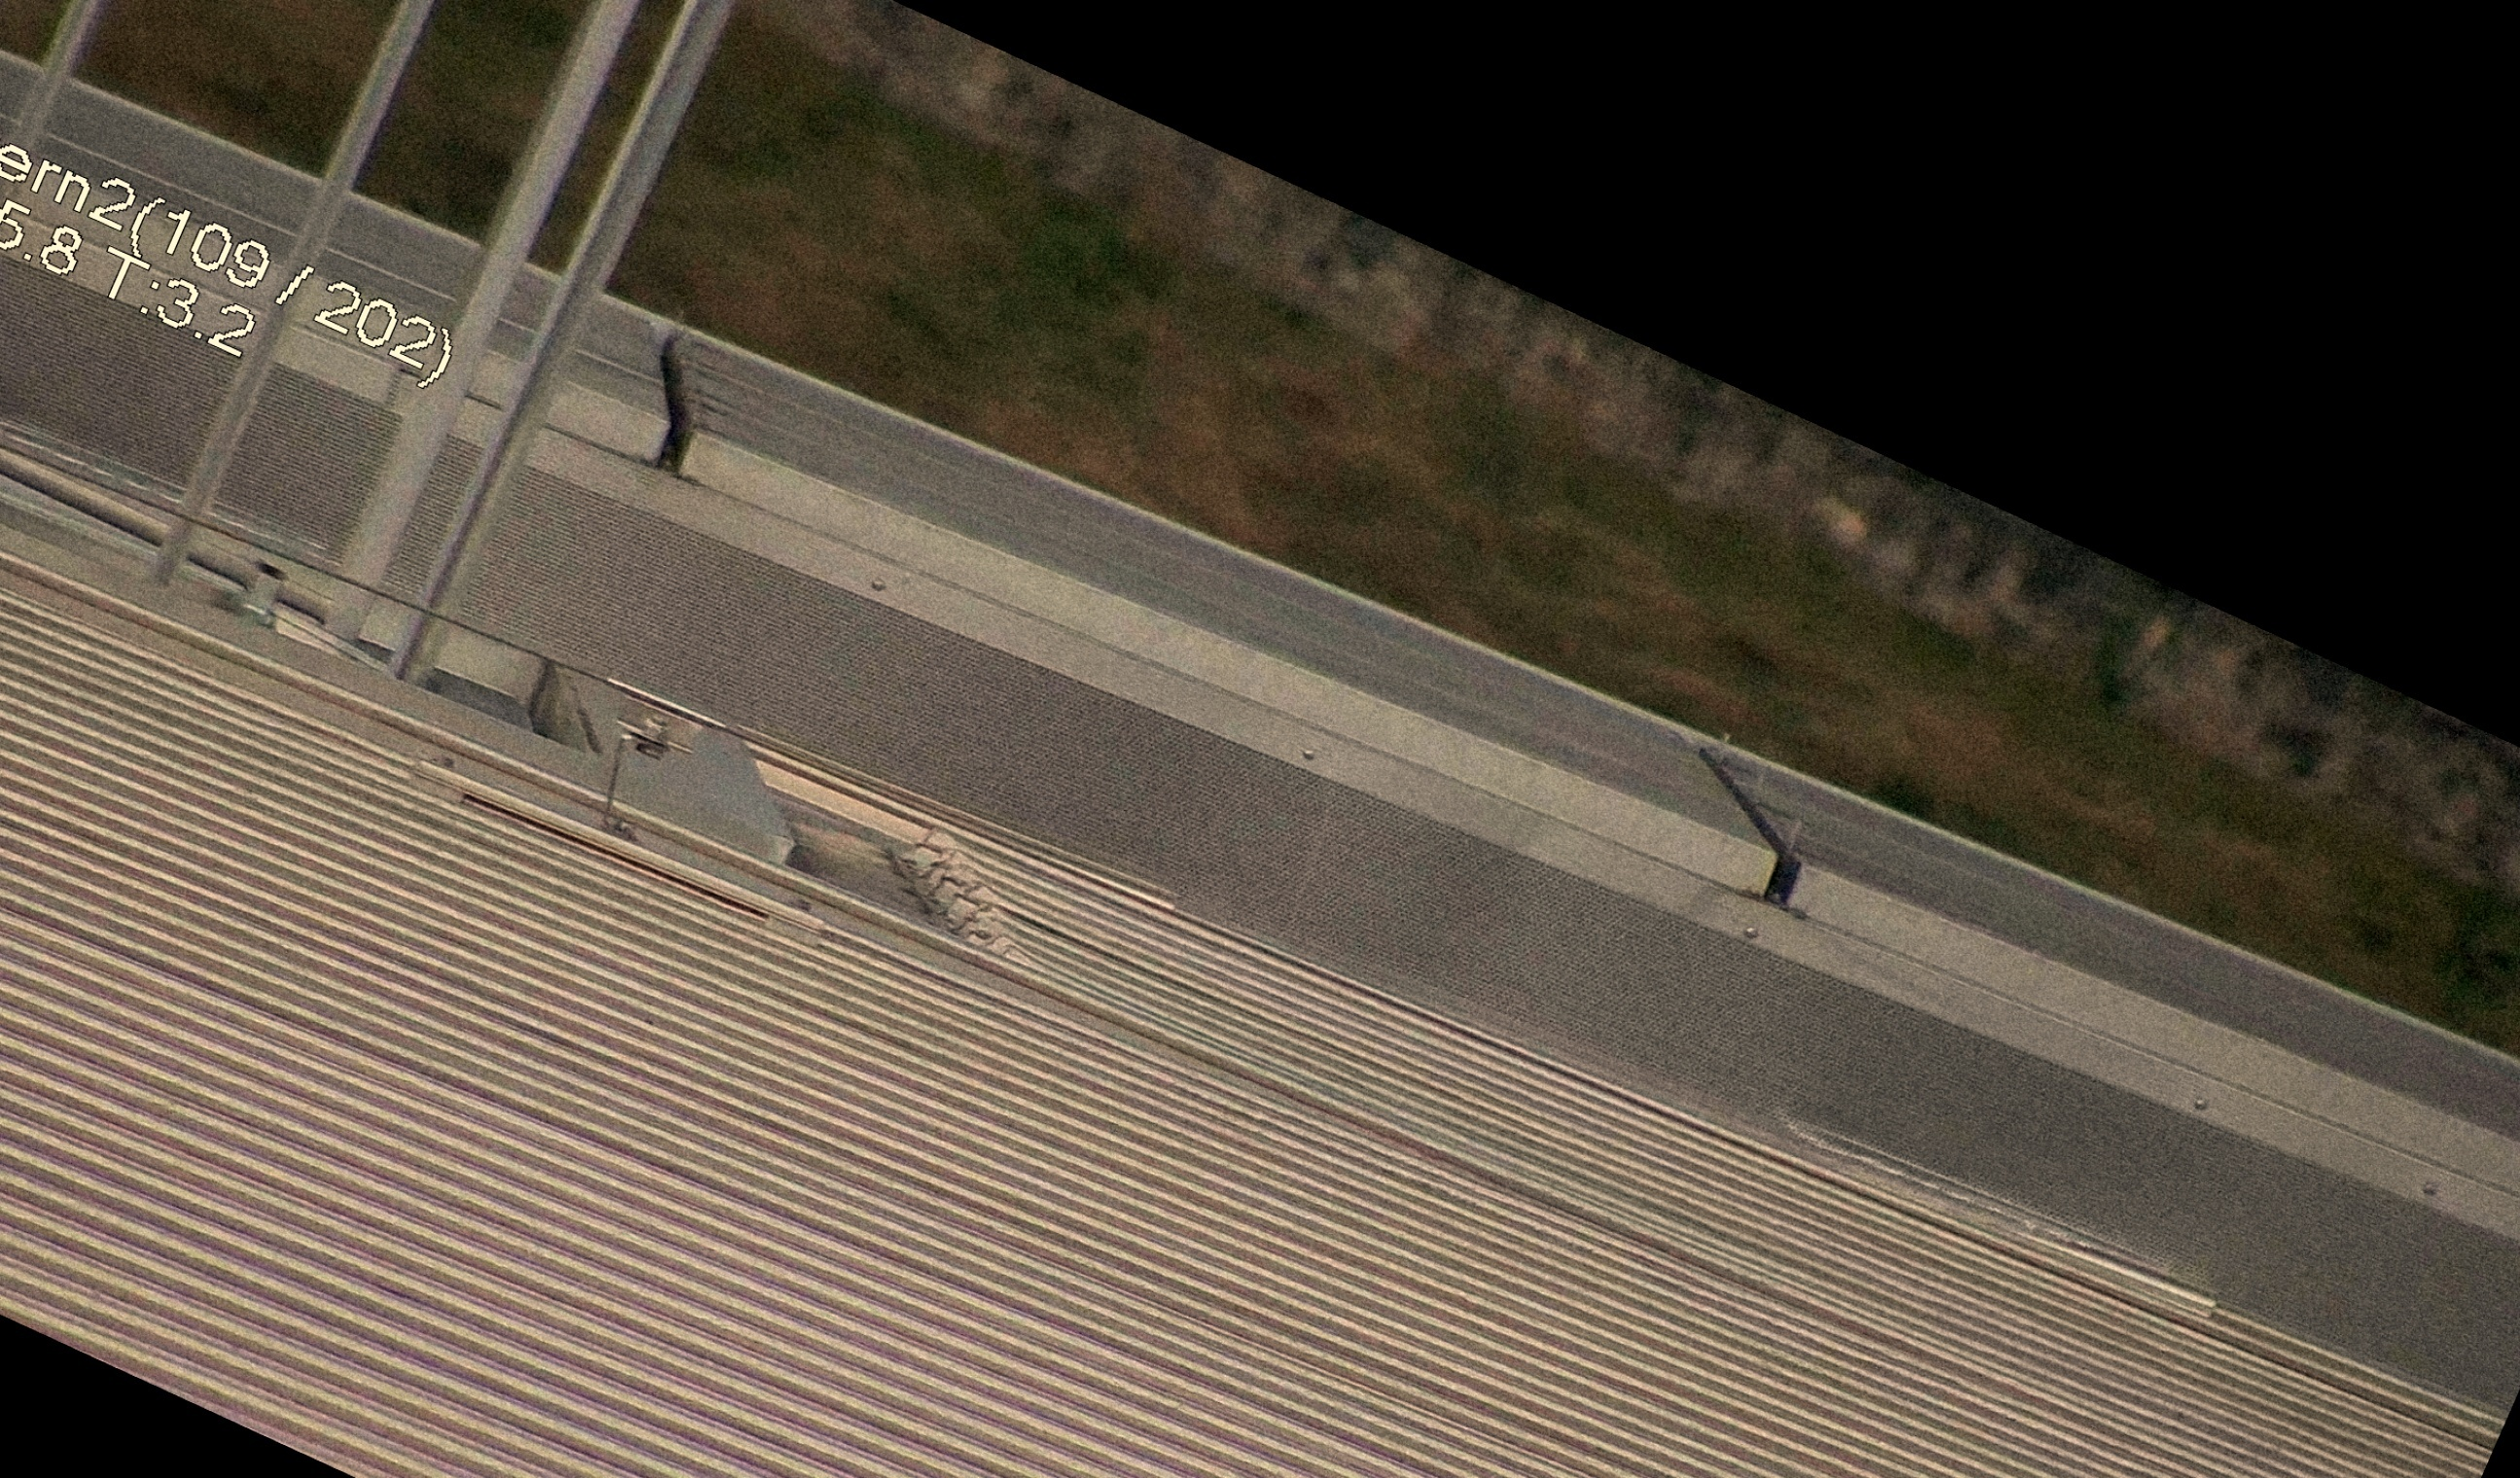Other: (575, 294, 756, 493)
